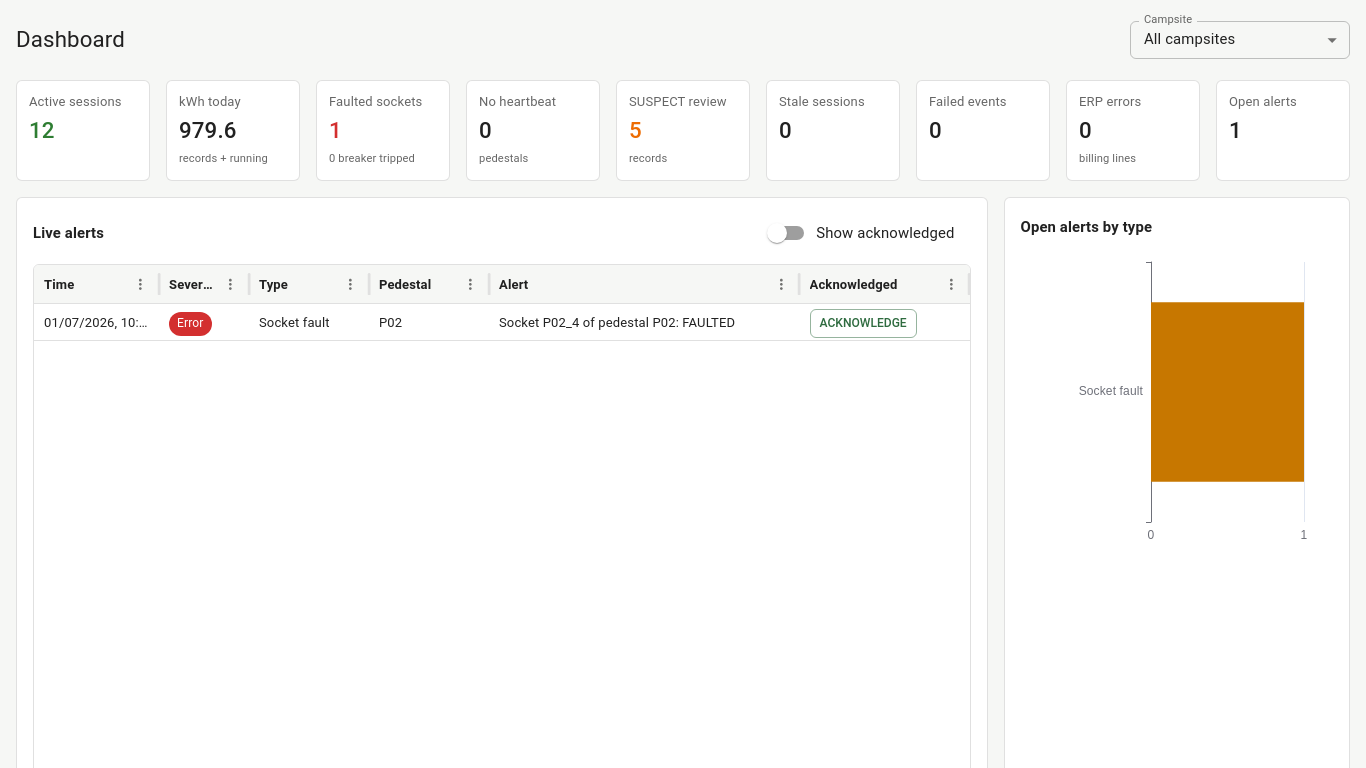
Test: dashboard tab › acknowledges an alert with a comment
Click the button with test id "ack-SOCKET_FAULT:11:1" at (863, 324), box [810, 309, 917, 338]
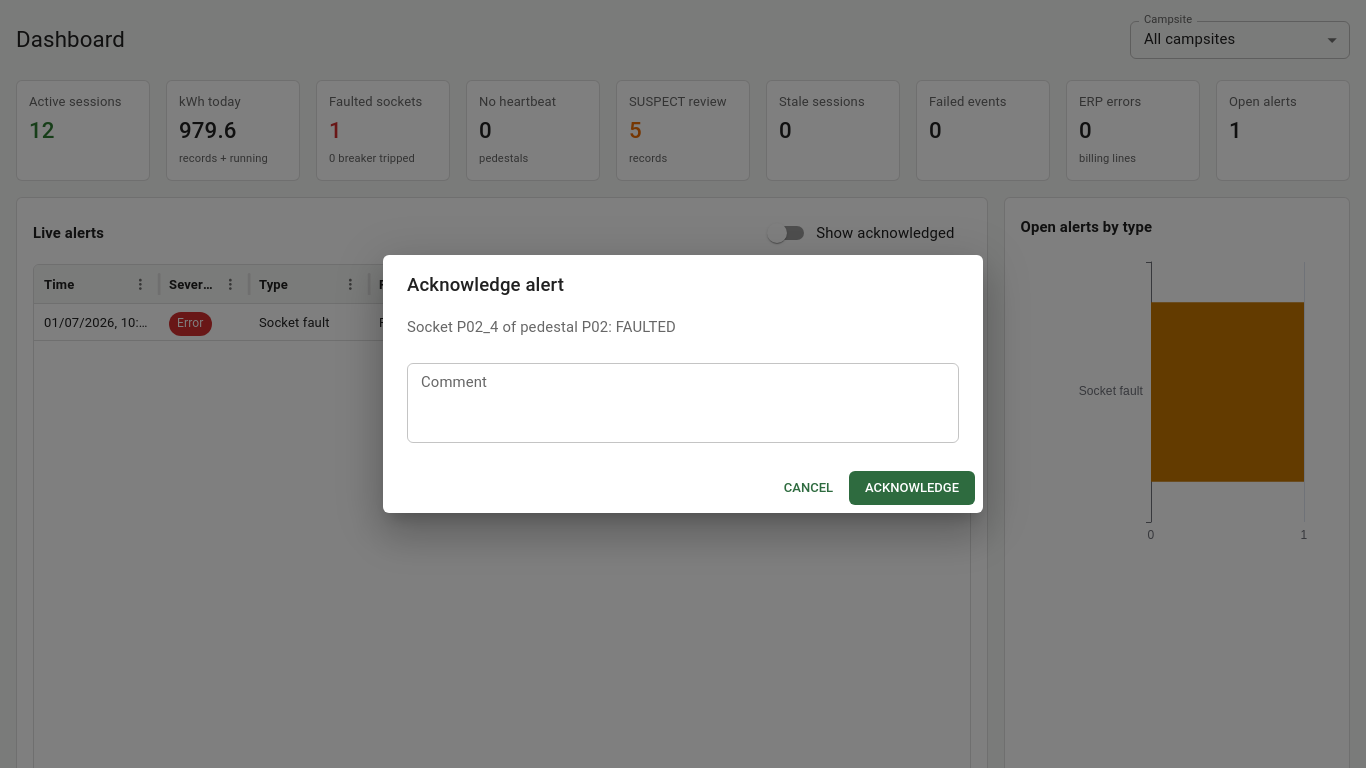
Type "technician on the way" into the text box labelled "Comment" at (683, 403), box [421, 371, 945, 434]
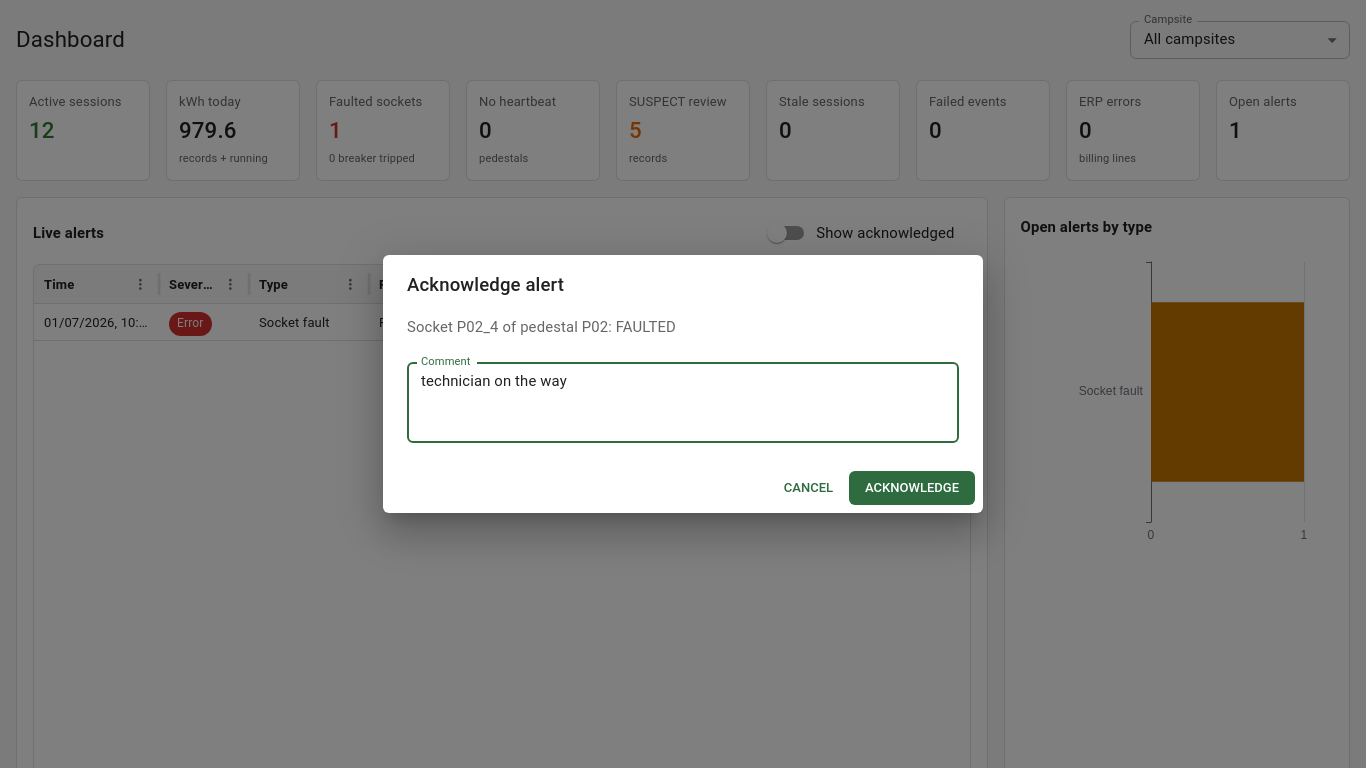
Click the button "Acknowledge" at (912, 488), box [849, 471, 975, 505]
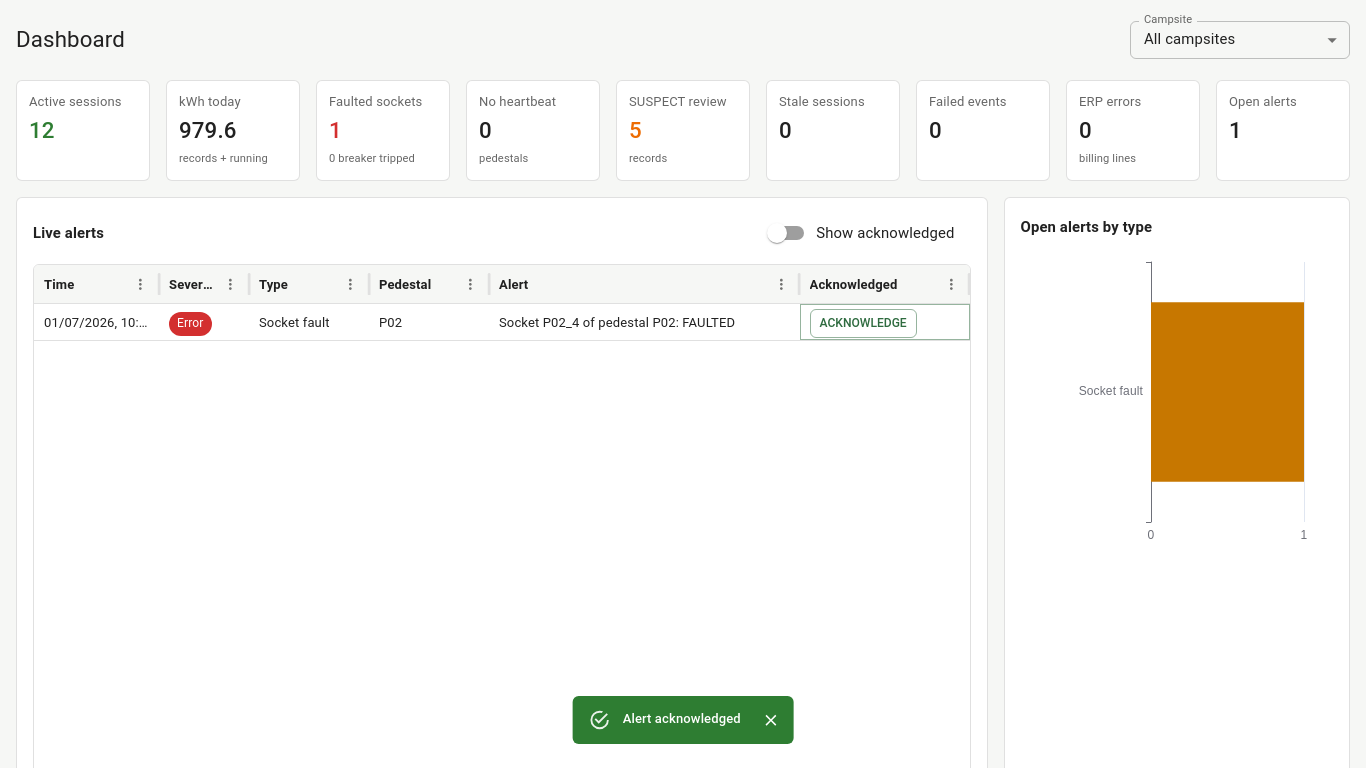
expect the message with test id "notification" reads "Alert acknowledged": met, box [623, 711, 741, 726]
